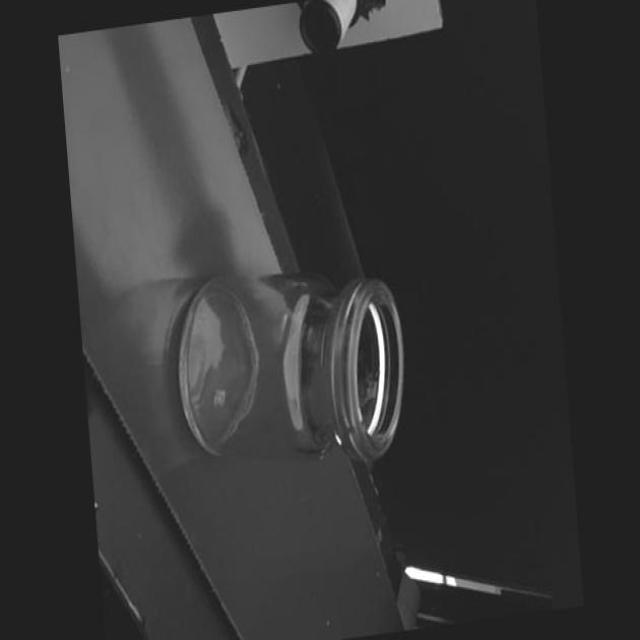defect: (332, 429, 339, 448)
glass: (167, 258, 410, 490)
